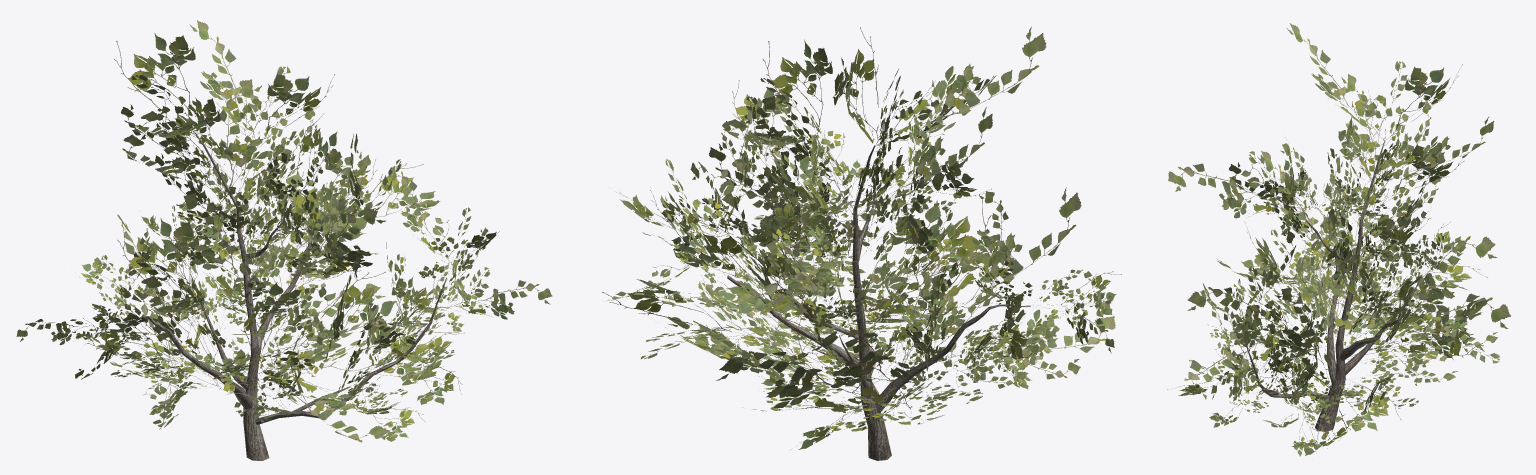
Rendered from sm_Bush_01_01.fbx.
The picture shows the model from 3 angles, left to right: view 1: azimuth 30°, elevation 25°; view 2: azimuth 150°, elevation 25°; view 3: azimuth 270°, elevation 25°; orthographic projection. The views are drawn at different scales.
Parts seen in each view (by area): view 1: sm_Bush_01_01_LOD0; view 2: sm_Bush_01_01_LOD0; view 3: sm_Bush_01_01_LOD0.
Boxes of the visible parts, bbox=[...] form: sm_Bush_01_01_LOD0: bbox=[16, 20, 552, 460]; sm_Bush_01_01_LOD0: bbox=[602, 26, 1121, 460]; sm_Bush_01_01_LOD0: bbox=[1167, 23, 1510, 456].
Size of the model in its own units: 174 by 231 by 192.
